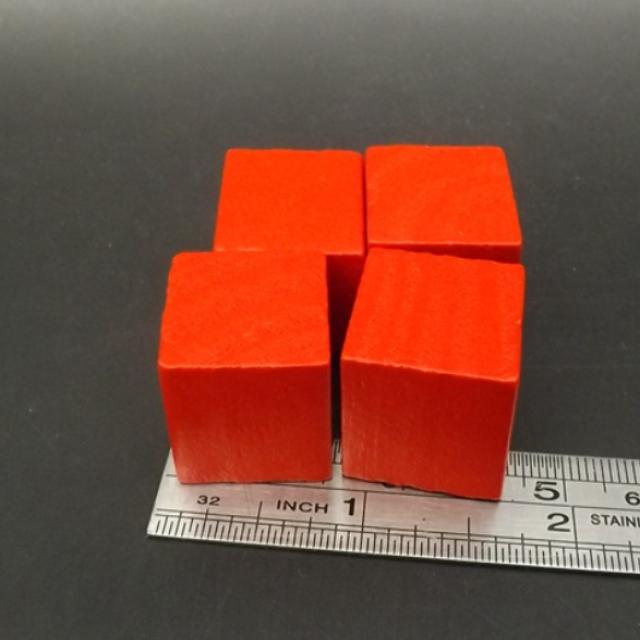red cube: (341, 249, 526, 501), (156, 251, 334, 483), (213, 146, 366, 349), (363, 143, 524, 265)
